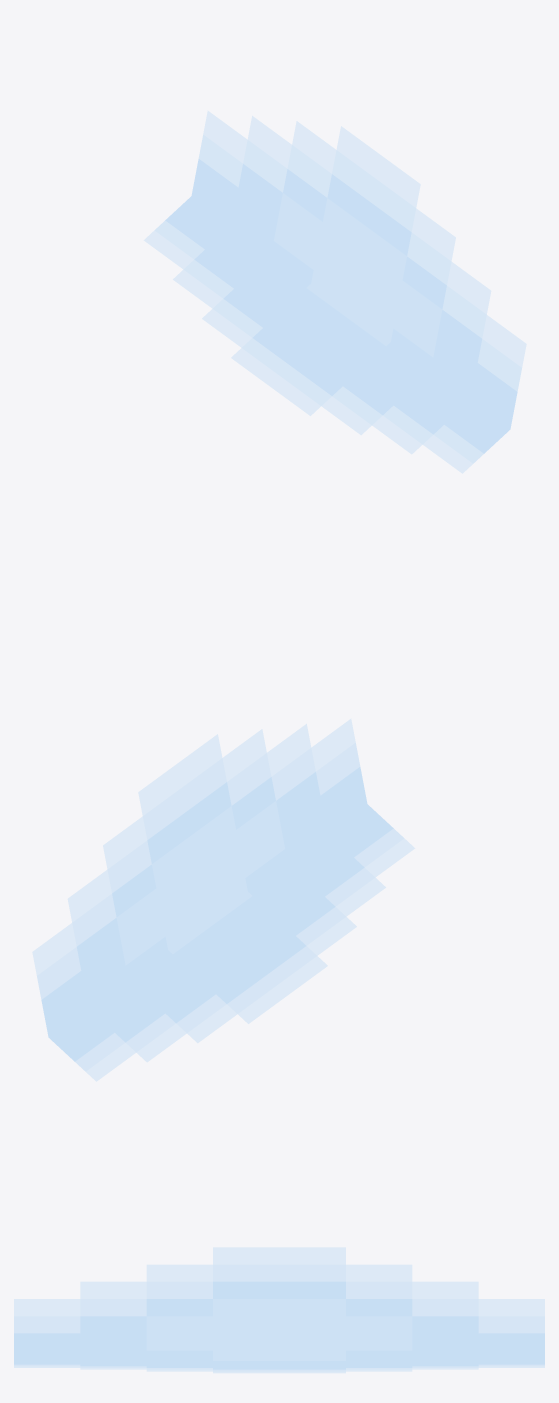
3 views of the same model, one above another, from view 1: azimuth 30°, elevation 25°; view 2: azimuth 150°, elevation 25°; view 3: azimuth 270°, elevation 25° (orthographic). The views are drawn at different scales.
Size of the model in its own units: 0.3838 by 0.5088 by 1.
1 material, 1 textured.
